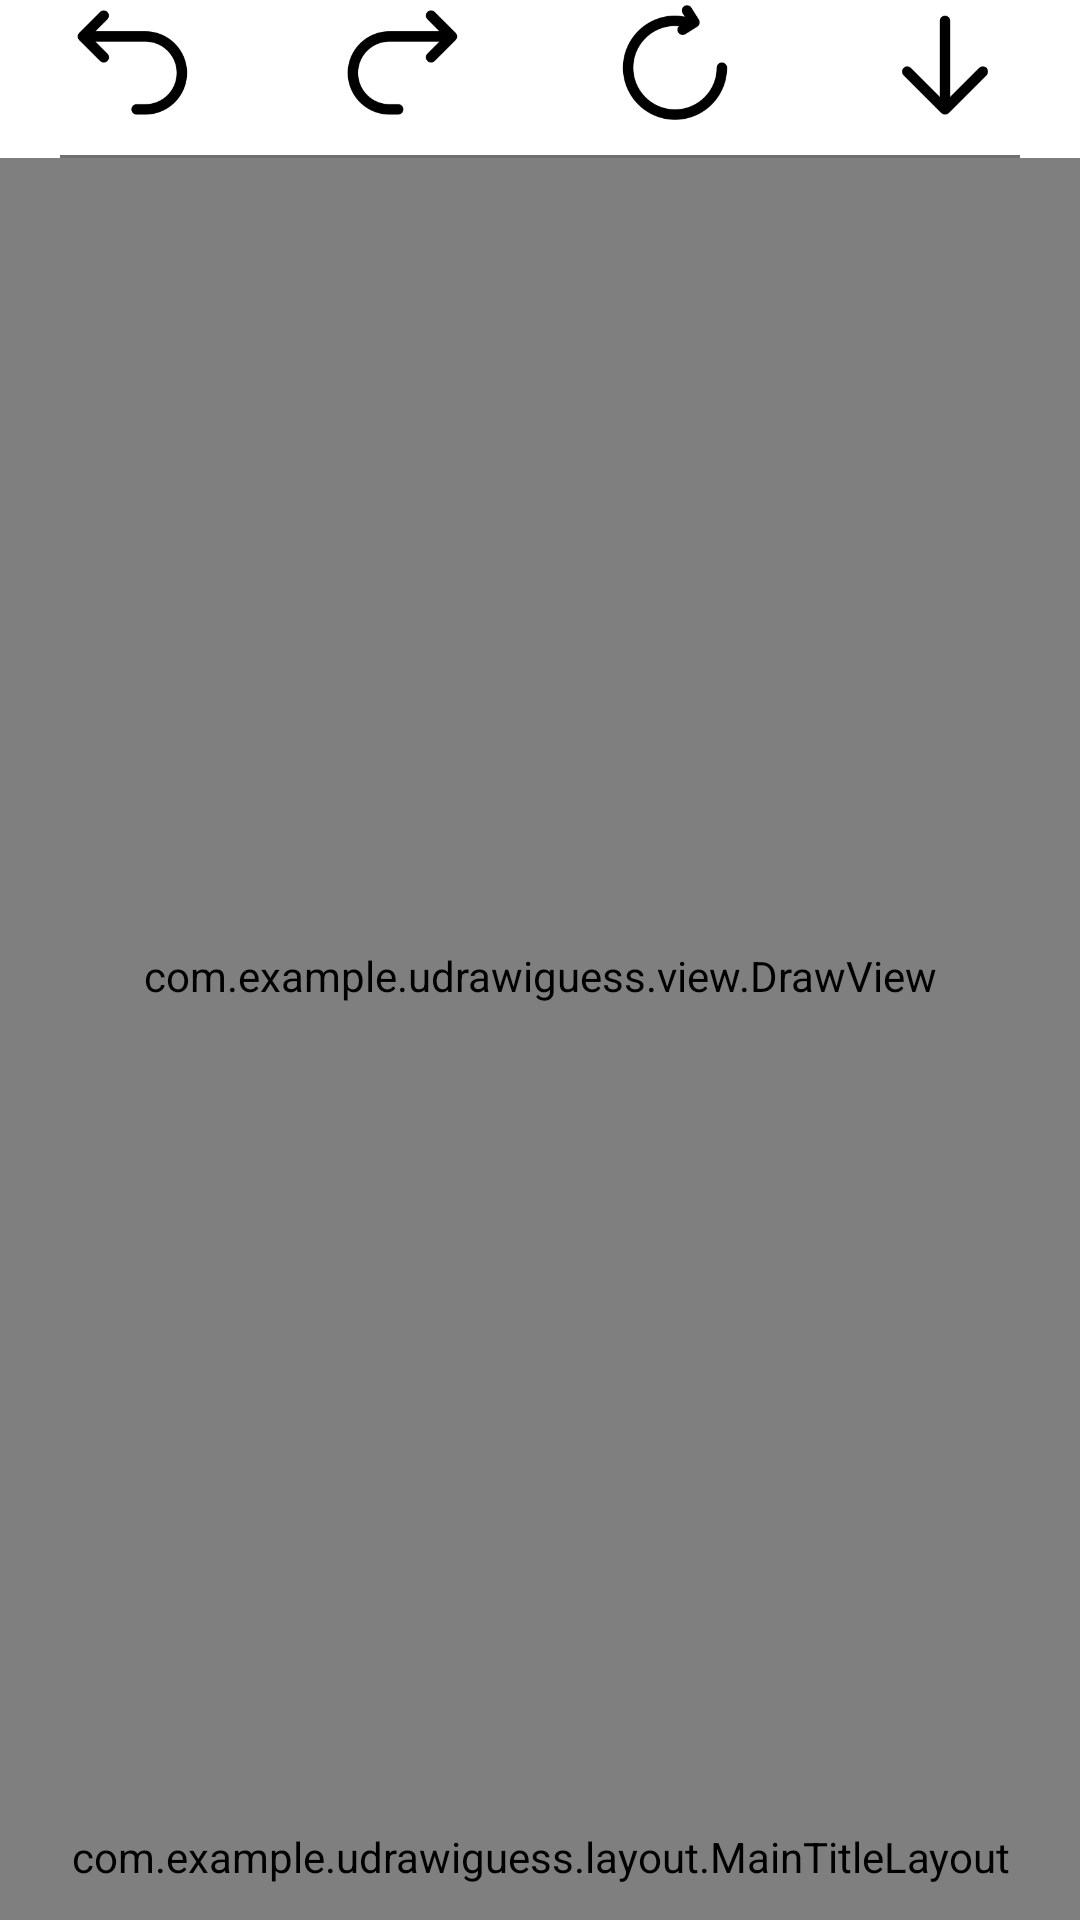

Locate icon controls on the screen. Image size 1080×1920, boxes as bbox=[x1, y1, x2, y2].
redo: bbox=[347, 10, 458, 115]
refresh: bbox=[622, 5, 728, 120]
undo: bbox=[77, 10, 188, 115]
